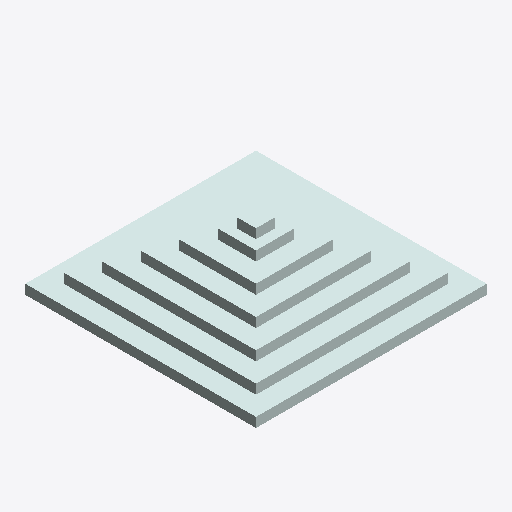
Isometric view (azimuth 45°, elevation 35.3°) of a Minecraft model made of 7 cuboids, textured from the same repository.
Visible parts, largest first — element 1, element 2, element 3, element 4, element 5, element 7, element 6.
Part boxes in pixels (left/top/right/bottom): element 1: left=25, top=151, right=486, bottom=427; element 2: left=64, top=162, right=447, bottom=393; element 3: left=102, top=173, right=409, bottom=360; element 4: left=141, top=184, right=370, bottom=327; element 5: left=179, top=195, right=332, bottom=294; element 7: left=218, top=217, right=293, bottom=260; element 6: left=237, top=206, right=274, bottom=238.
Size of the model in its own units: 12 by 3.5 by 12.